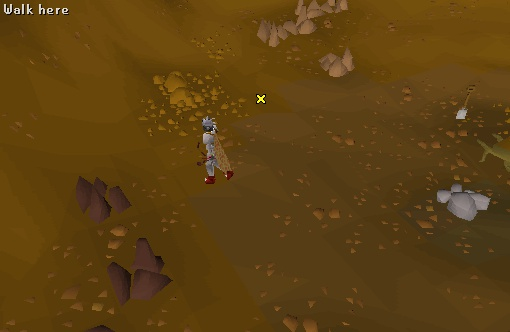copper: (317, 44, 359, 84), (251, 13, 293, 53)
iron: (85, 235, 187, 308), (65, 169, 139, 228)
